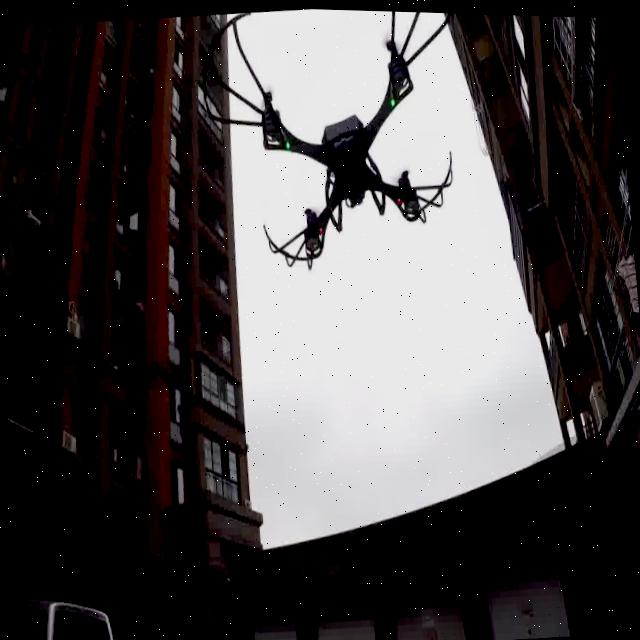drone: (187, 4, 486, 303)
